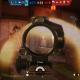Character: (38, 39, 41, 50)
